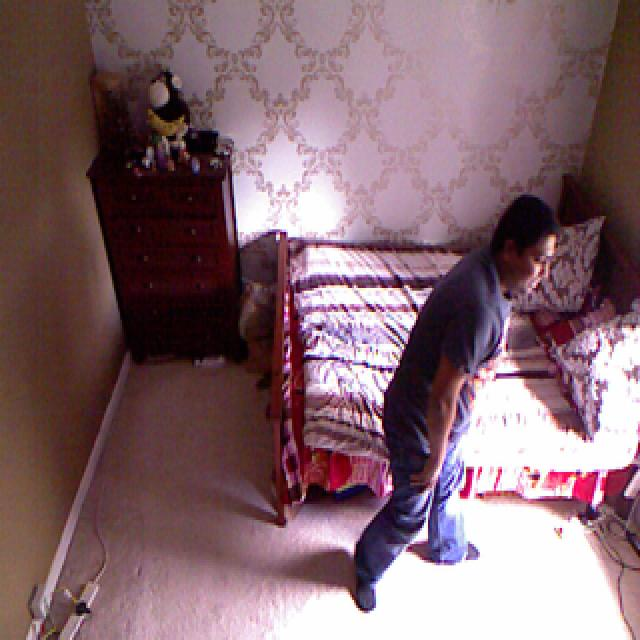standing: (348, 195, 562, 617)
